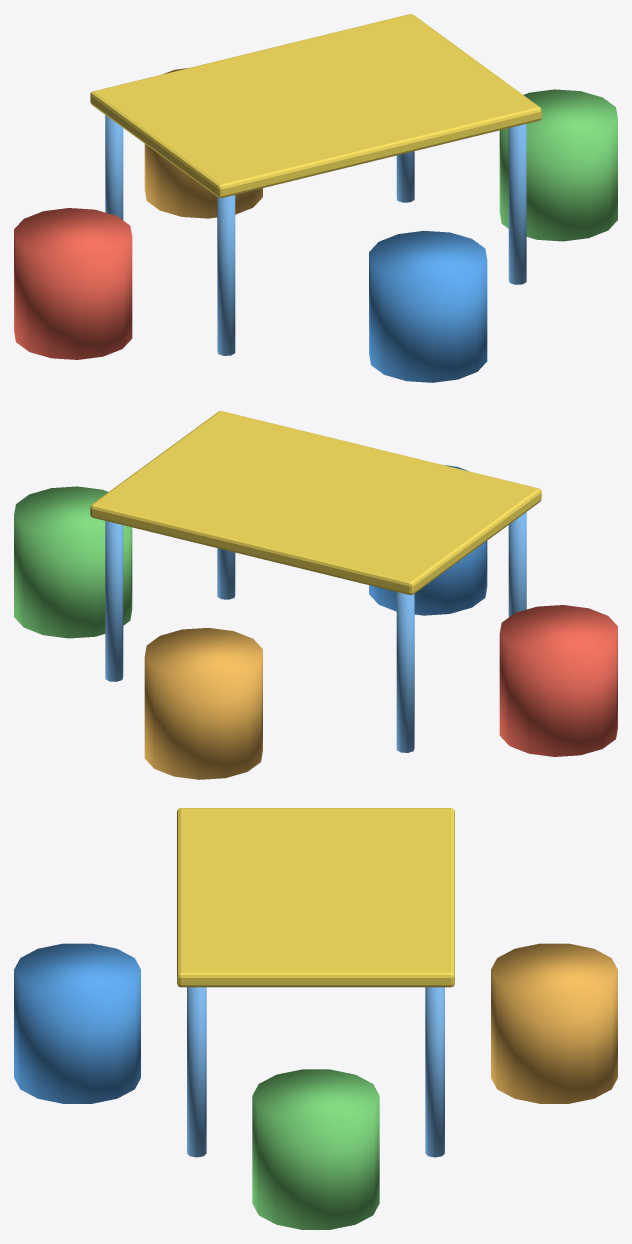
Rendered from kids_table.glb.
The picture shows the model from 3 angles, top to bottom: view 1: azimuth 30°, elevation 25°; view 2: azimuth 150°, elevation 25°; view 3: azimuth 270°, elevation 25°; orthographic projection. The views are drawn at different scales.
Visible parts, largest first — view 1: kids_table; view 2: kids_table; view 3: kids_table.
Part boxes in pixels (x1,y1,x2,y2): kids_table: (14,14,617,382); kids_table: (14,411,617,779); kids_table: (14,808,617,1229).
Size of the model in its own units: 1.81 by 0.52 by 1.52.
